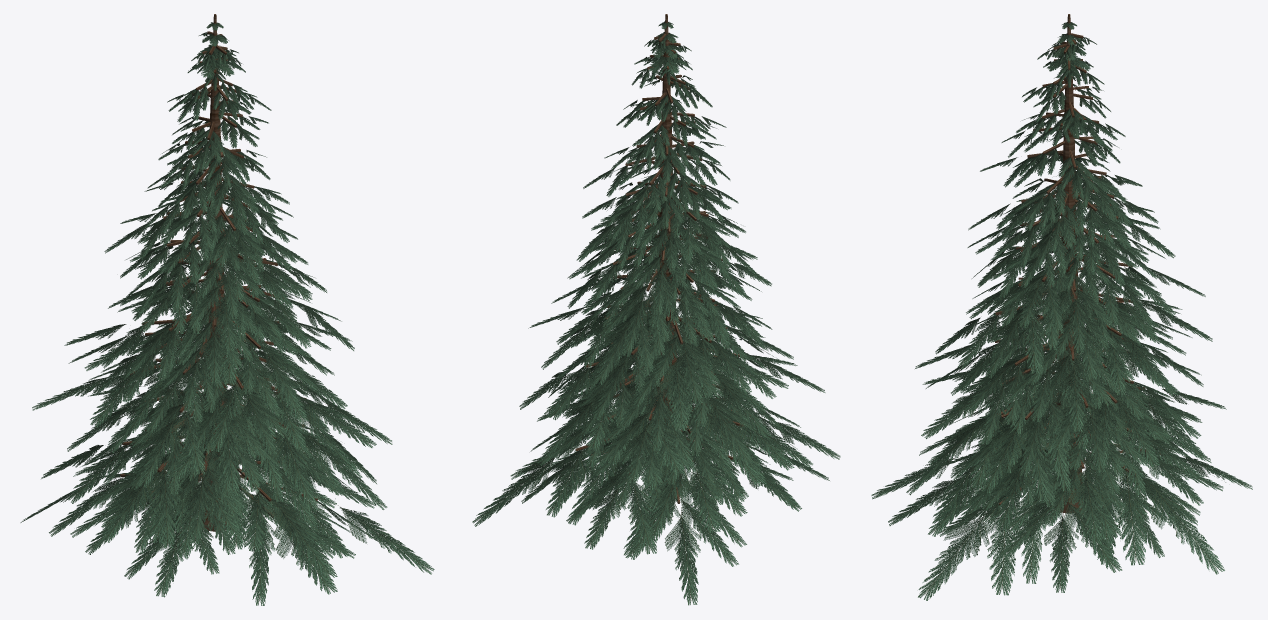
The model's file is spruce.glb.
3 views of the same model, side by side, from view 1: azimuth 30°, elevation 25°; view 2: azimuth 150°, elevation 25°; view 3: azimuth 270°, elevation 25° (orthographic). The views are drawn at different scales.
Visible parts, largest first — view 1: spruce; view 2: spruce; view 3: spruce.
Boxes of the visible parts, box(x1,y1,x2,y2) form: spruce: box(20, 14, 434, 605); spruce: box(472, 14, 840, 605); spruce: box(871, 14, 1252, 600).
Size of the model in its own units: 4.97 by 8.28 by 5.51.
2 materials, 2 textured.
